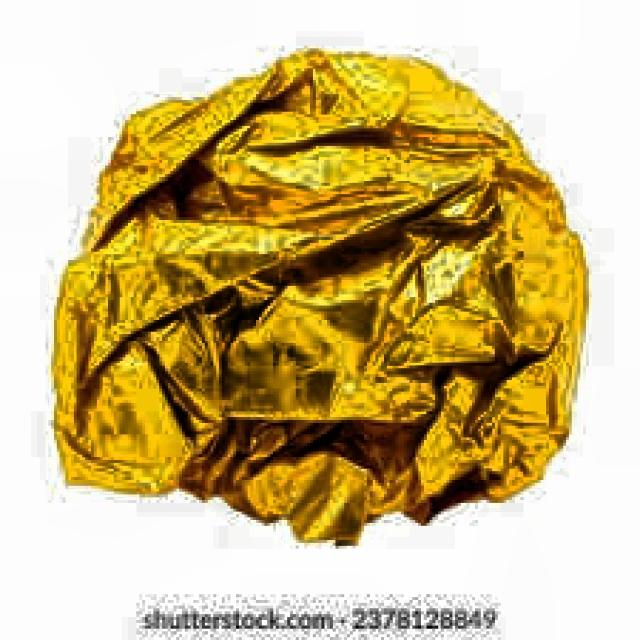Foil: (24, 38, 600, 570)
